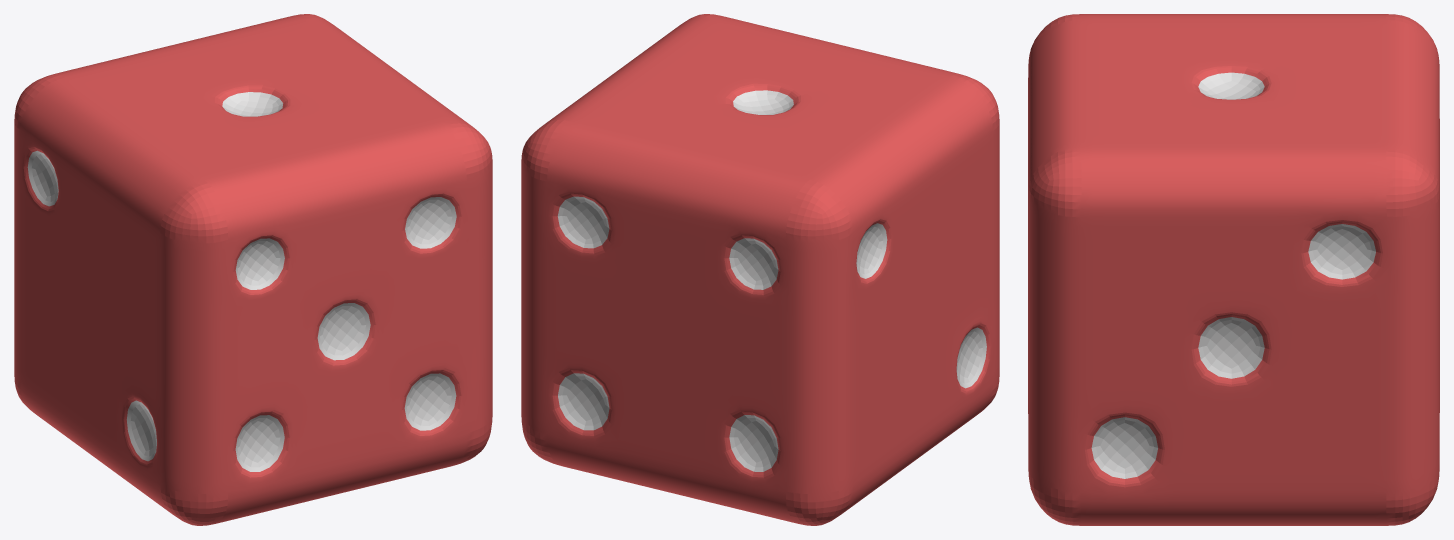
Rendered from red.fbx.
3 views of the same model, side by side, from view 1: azimuth 30°, elevation 25°; view 2: azimuth 150°, elevation 25°; view 3: azimuth 270°, elevation 25° (orthographic). The views are drawn at different scales.
Parts seen in each view (by area): view 1: Cube; view 2: Cube; view 3: Cube.
Part boxes in pixels (left/top/right/bottom): Cube: left=14, top=14, right=492, bottom=525; Cube: left=521, top=14, right=999, bottom=525; Cube: left=1028, top=14, right=1439, bottom=525.
Size of the model in its own units: 1 by 1 by 1.
